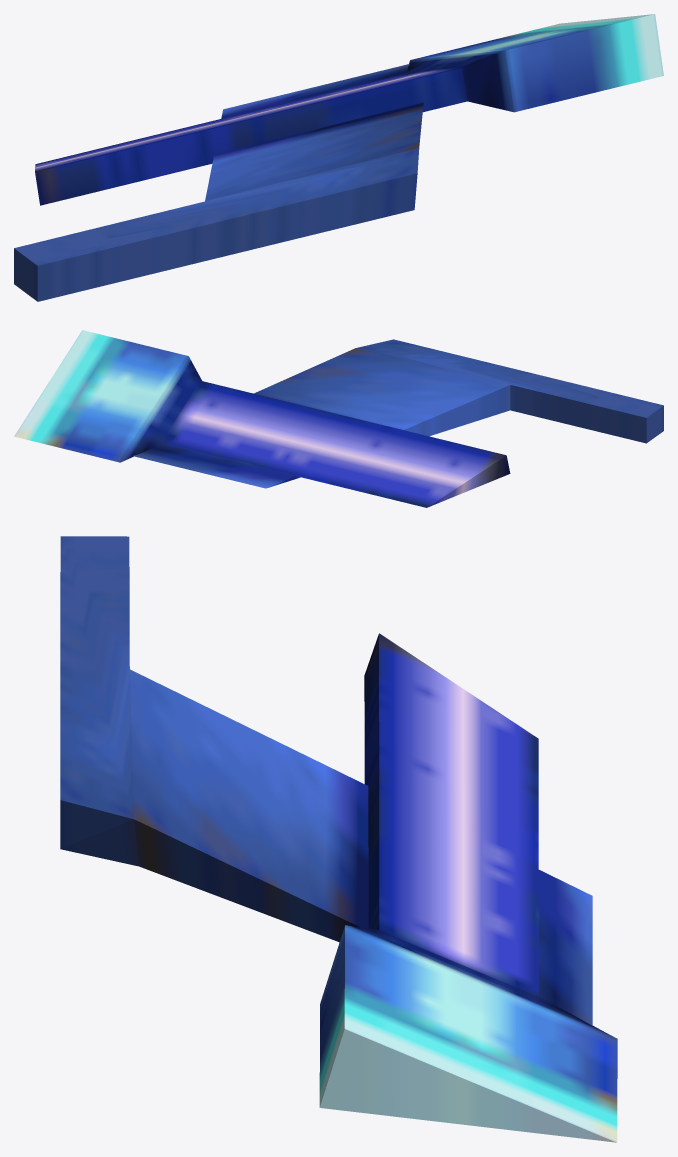
3 renders of one model, top to bottom at view 1: azimuth 30°, elevation 25°; view 2: azimuth 150°, elevation 25°; view 3: azimuth 270°, elevation 25°, orthographic. The views are drawn at different scales.
Parts seen in each view (by area): view 1: aw218; view 2: aw218; view 3: aw218.
Boxes of the visible parts, x1,y1,x2,y2 form: aw218: (14,14,663,301); aw218: (14,330,663,507); aw218: (60,536,617,1142).
Size of the model in its own units: 19.07 by 2.03 by 9.01.
1 material, 1 textured.
